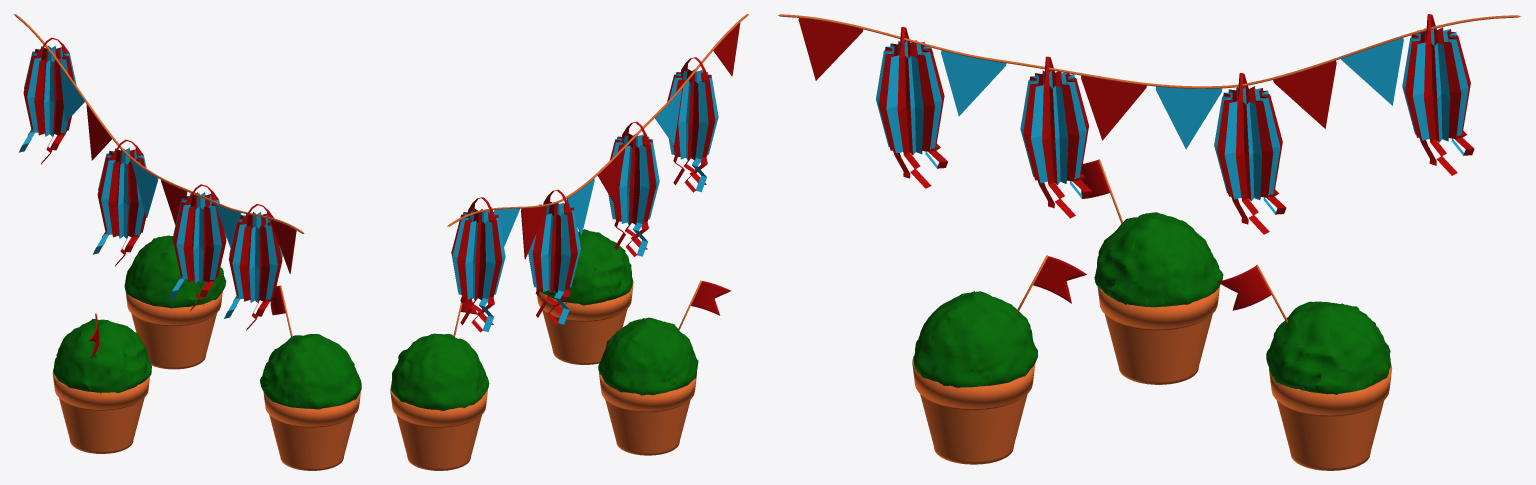
The model's file is santos-asset.glb.
3 renders of one model, left to right at view 1: azimuth 30°, elevation 25°; view 2: azimuth 150°, elevation 25°; view 3: azimuth 270°, elevation 25°, orthographic. The views are drawn at different scales.
Parts seen in each view (by area): view 1: Cylinder.001, Cylinder, Cylinder.003, Cylinder.002; view 2: Cylinder.001, Cylinder.003, Cylinder.002, Cylinder; view 3: Cylinder.001, Cylinder, Cylinder.002, Cylinder.003.
Part boxes in pixels (<box>): Cylinder.001: <box>14,14,304,330</box>; Cylinder: <box>260,285,361,470</box>; Cylinder.003: <box>52,313,151,453</box>; Cylinder.002: <box>124,235,226,369</box>; Cylinder.001: <box>447,14,748,332</box>; Cylinder.003: <box>598,280,731,455</box>; Cylinder.002: <box>390,297,489,470</box>; Cylinder: <box>536,229,633,364</box>; Cylinder.001: <box>778,14,1520,234</box>; Cylinder: <box>912,255,1086,464</box>; Cylinder.002: <box>1217,264,1392,470</box>; Cylinder.003: <box>1081,159,1223,384</box>.
Size of the model in its own units: 6.01 by 7.63 by 13.21.
